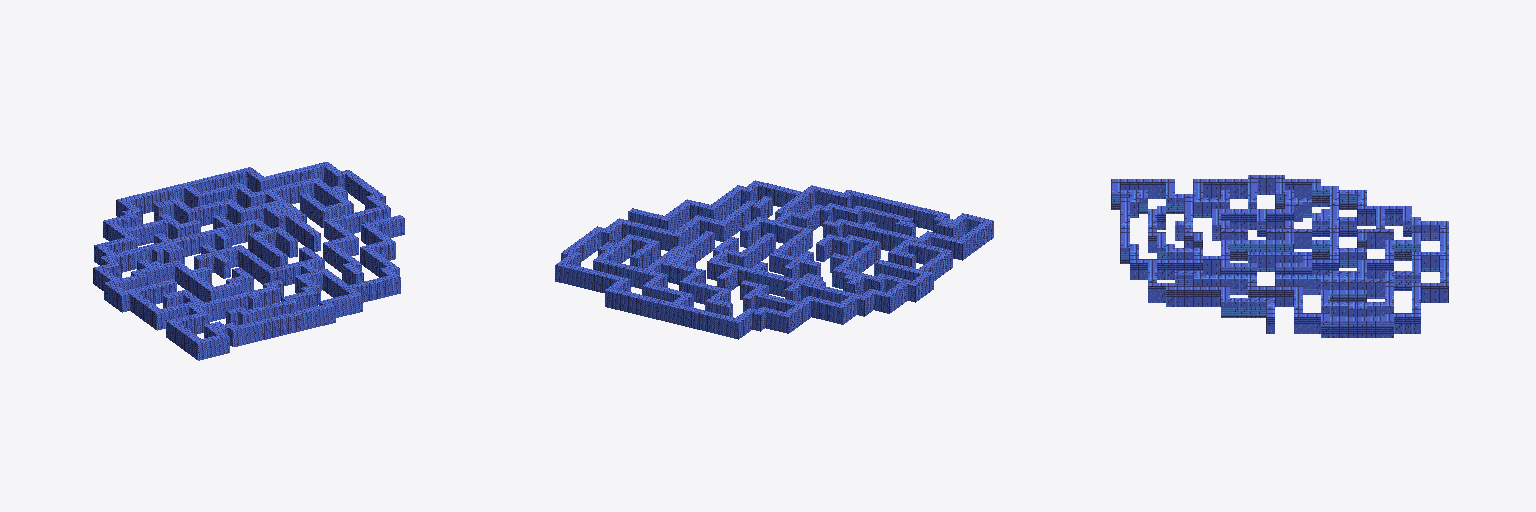
3 renders of one model, left to right at view 1: azimuth 30°, elevation 25°; view 2: azimuth 150°, elevation 25°; view 3: azimuth 270°, elevation 25°, orthographic.
Visible parts, largest first — view 1: Cube (52); view 2: Cube (52); view 3: Cube (52).
Boxes of the visible parts, <box> form: Cube (52): <box>93,162,404,360</box>; Cube (52): <box>555,180,993,339</box>; Cube (52): <box>1111,175,1448,337</box>.
Bounding box in the file's own units: 38 × 2.04 × 37.
Materials: 1 (1 with a texture image).